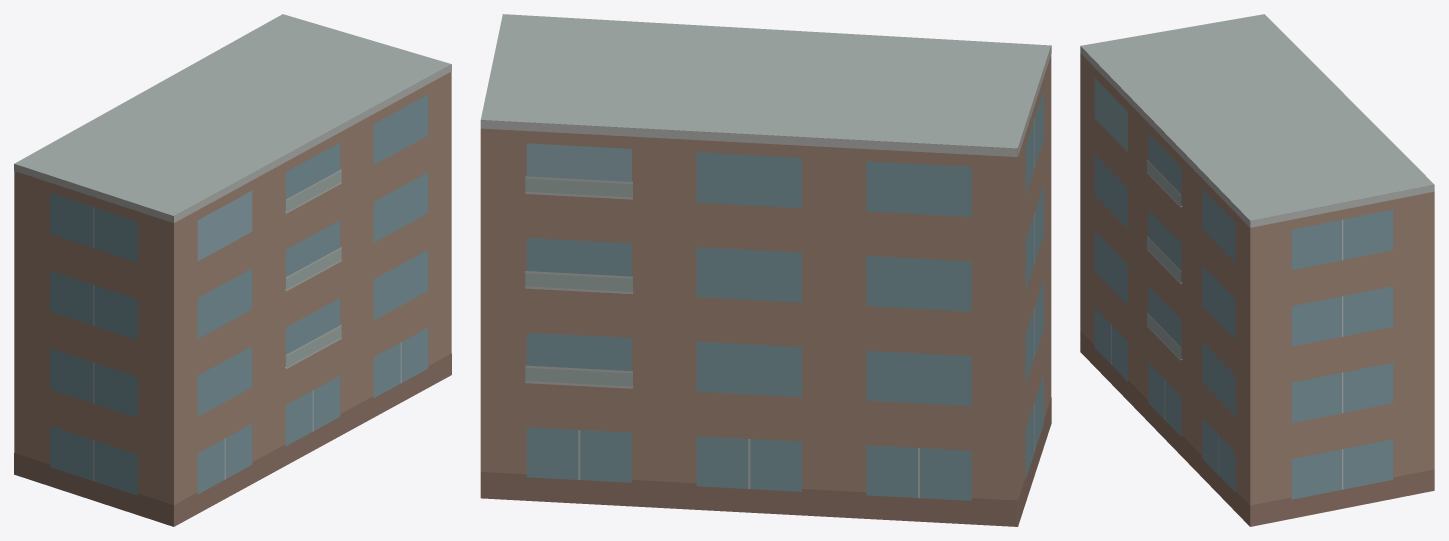
Rendered from survey-upis-32853875.glb.
3 renders of one model, left to right at view 1: azimuth 30°, elevation 25°; view 2: azimuth 150°, elevation 25°; view 3: azimuth 270°, elevation 25°, orthographic. The views are drawn at different scales.
Visible parts, largest first — view 1: survey-upis-32853875.tmp; view 2: survey-upis-32853875.tmp; view 3: survey-upis-32853875.tmp.
Part boxes in pixels (<box>): survey-upis-32853875.tmp: <box>14,14,451,526</box>; survey-upis-32853875.tmp: <box>480,14,1051,526</box>; survey-upis-32853875.tmp: <box>1080,14,1434,526</box>.
Bounding box in the file's own units: 15.37 × 10.6 × 11.13.
